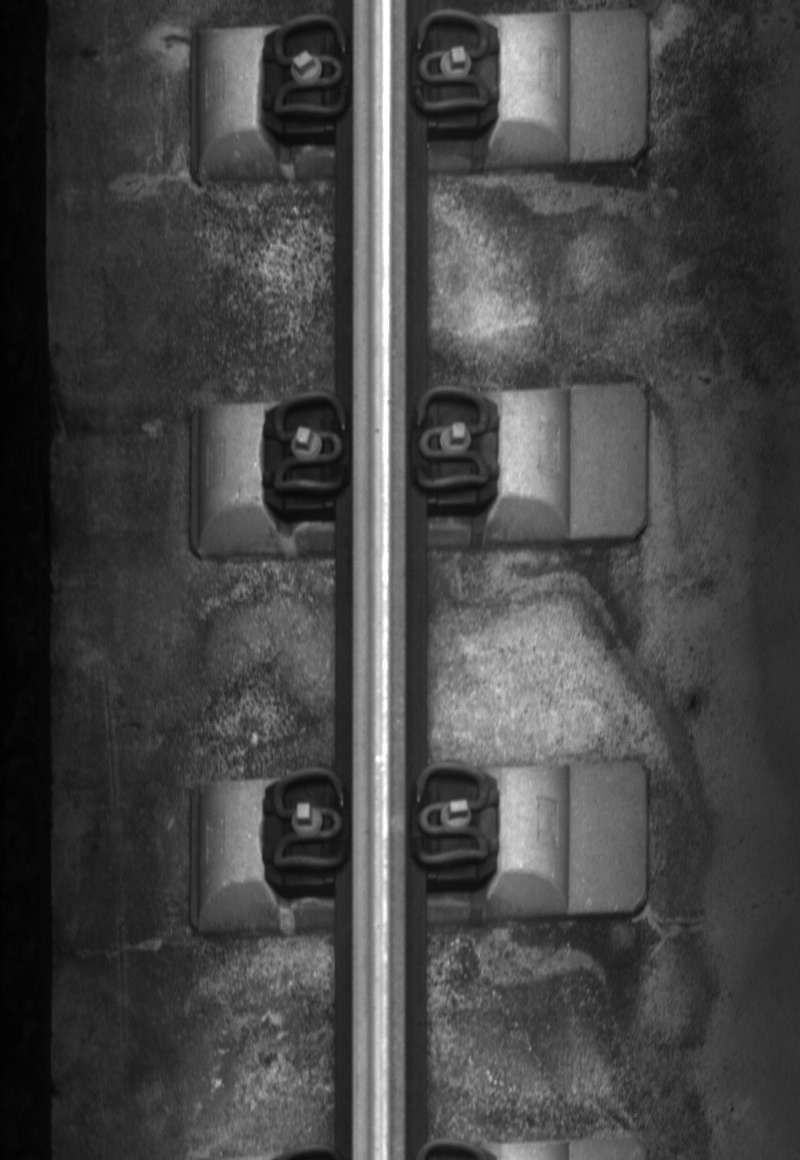l_faster: (267, 6, 351, 128), (268, 388, 351, 503), (268, 764, 350, 879)
r_faster: (408, 380, 493, 498), (409, 2, 493, 121), (408, 761, 495, 875)
